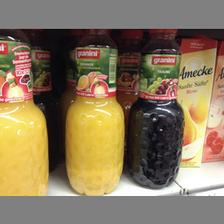Saft: (63, 29, 123, 194), (128, 28, 184, 188), (0, 28, 48, 194)
